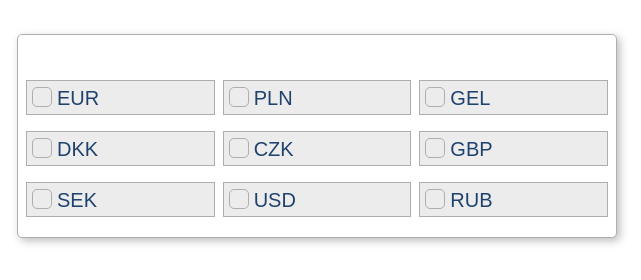
Test case: CurrencySelector component › currency selection is handled correctly
The width and height of the screenshot is (641, 280).
Click the checkbox labelled "EUR" at coordinates (42, 97), box [32, 87, 52, 107]
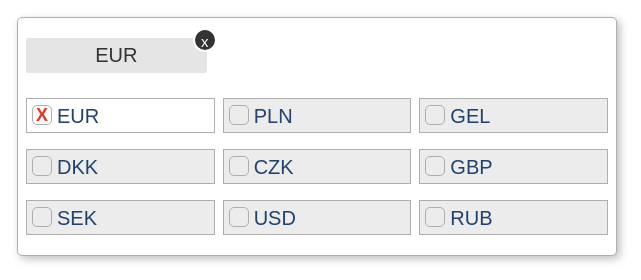
Expected: the checkbox labelled "USD" is not checked, [229, 206, 249, 226]
Expected: the checkbox labelled "EUR" is checked, [32, 104, 52, 124]
Expected: the element showing "EUR x" is shown, [26, 38, 207, 72]
